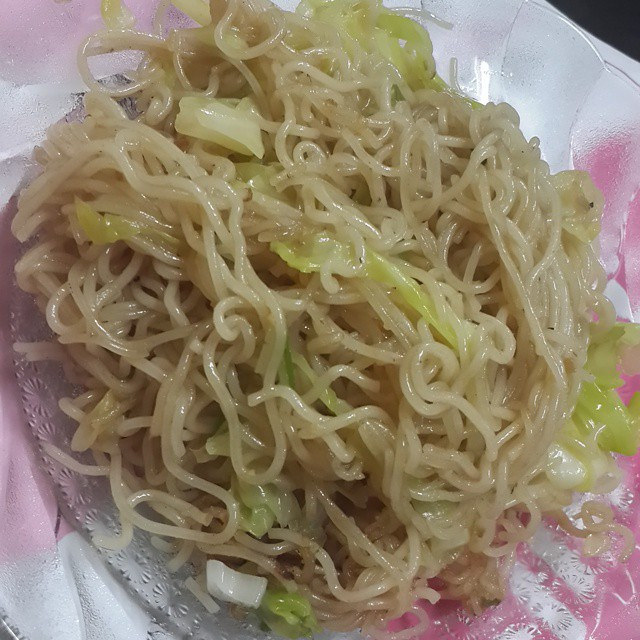plain spaghetti: (90, 52, 534, 543)
